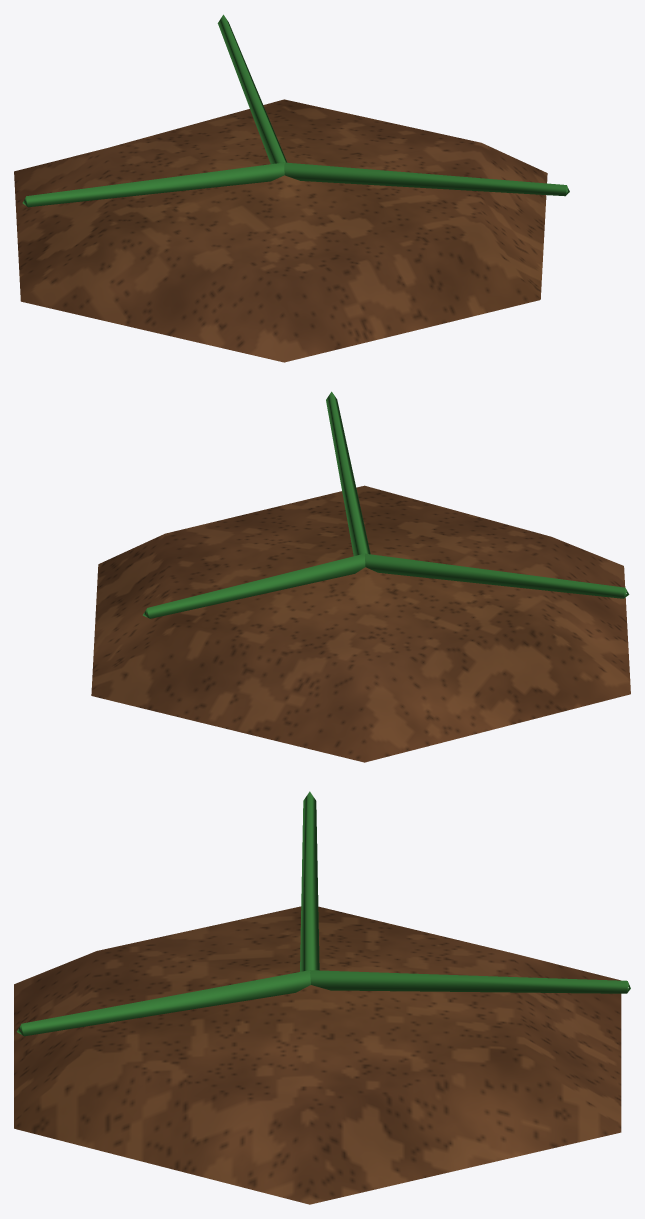
File: plant-watermelon-1-far.glb
3 views of the same model, one above another, from view 1: azimuth 30°, elevation 25°; view 2: azimuth 150°, elevation 25°; view 3: azimuth 270°, elevation 25° (orthographic). The views are drawn at different scales.
Parts seen in each view (by area): view 1: plant-watermelon-1-far; view 2: plant-watermelon-1-far; view 3: plant-watermelon-1-far.
Boxes of the visible parts, x1,y1,x2,y2 form: plant-watermelon-1-far: (14, 14, 569, 362); plant-watermelon-1-far: (91, 391, 630, 762); plant-watermelon-1-far: (14, 791, 630, 1204).
Size of the model in its own units: 0.973 by 0.1605 by 0.7389.
Materials: 3 (1 with a texture image).
